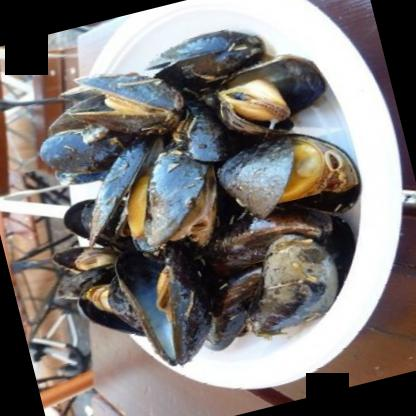mussel: (84, 136, 229, 262), (111, 232, 237, 372), (217, 223, 358, 344), (220, 120, 364, 230), (56, 56, 188, 153), (204, 52, 320, 140)
